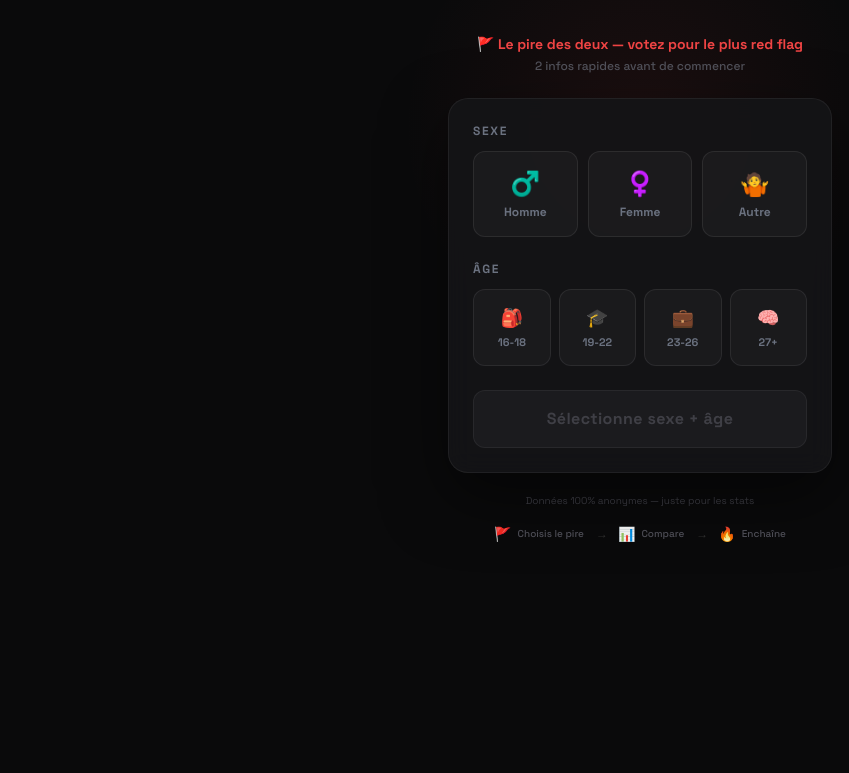
Test: ProfileForm › affiche une erreur si on soumet sans sélectionner d'âge
Click the radio button labelled "Homme".
click(525, 194)  # box [473,151,578,237]
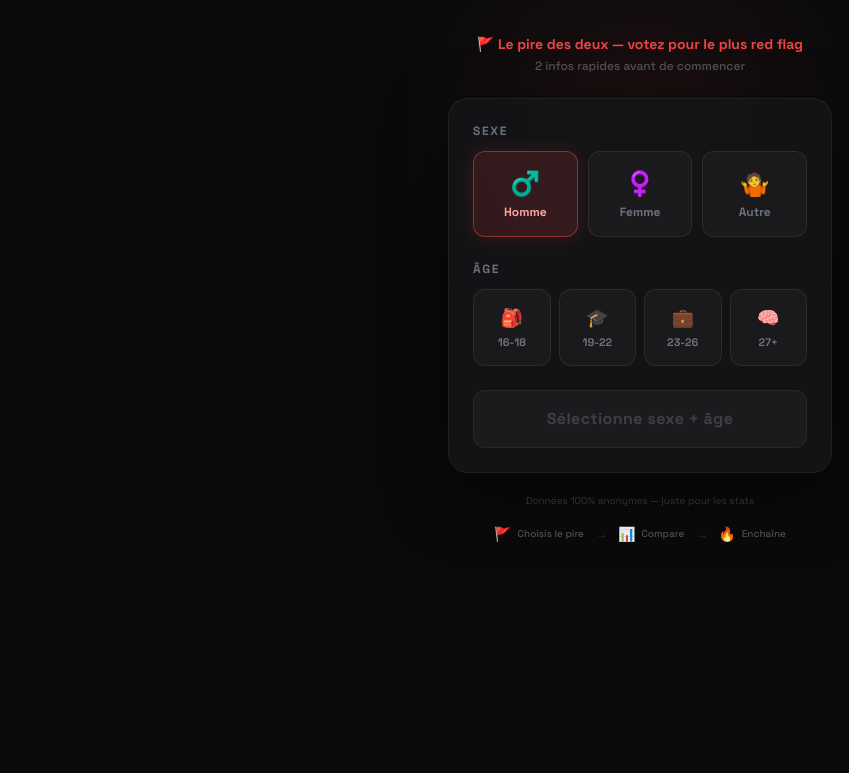
Click the button "Sélectionne sexe + âge".
click(640, 419)  # box [473,390,807,448]
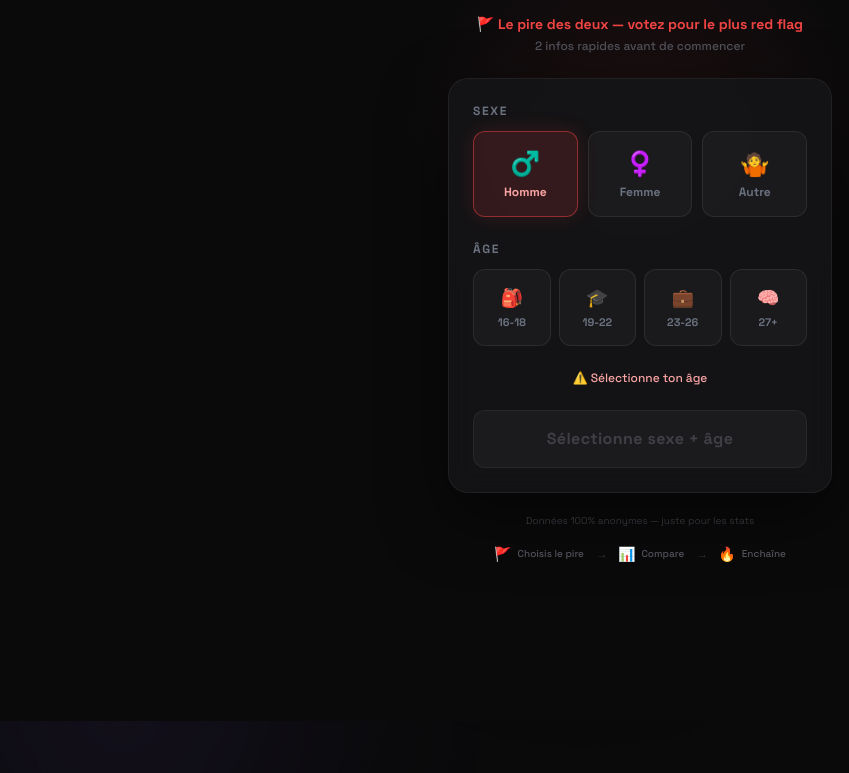
Expected: the text "⚠️ Sélectionne ton âge" is shown, [573,370,707,386]
